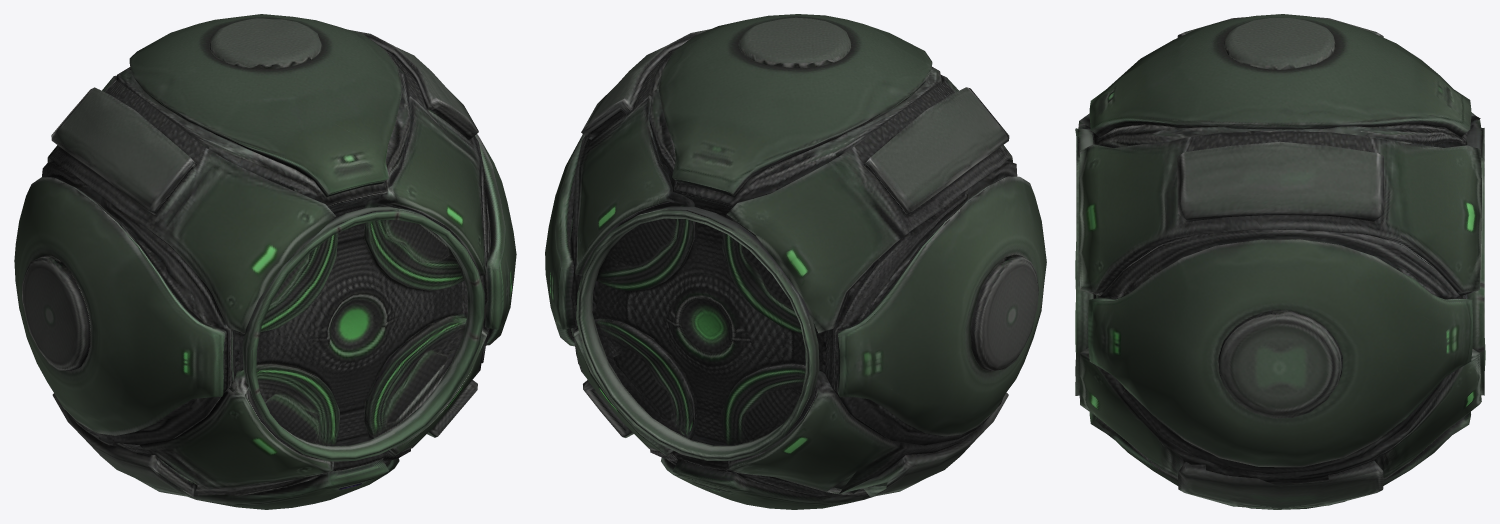
File: green.glb
The picture shows the model from 3 angles, left to right: view 1: azimuth 30°, elevation 25°; view 2: azimuth 150°, elevation 25°; view 3: azimuth 270°, elevation 25°; orthographic projection.
Parts seen in each view (by area): view 1: mesh_node; view 2: mesh_node; view 3: mesh_node.
Part boxes in pixels (x1,y1,x2,y2): mesh_node: (14, 14, 516, 509); mesh_node: (545, 14, 1046, 509); mesh_node: (1075, 14, 1485, 509).
Size of the model in its own units: 1 by 1 by 0.8242.
1 material, 1 textured.
